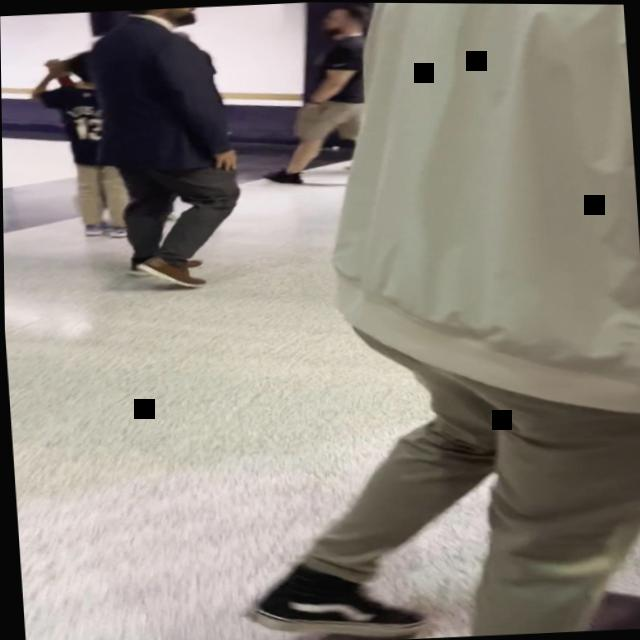NO-Mask: (323, 9, 353, 33), (168, 6, 203, 23)
